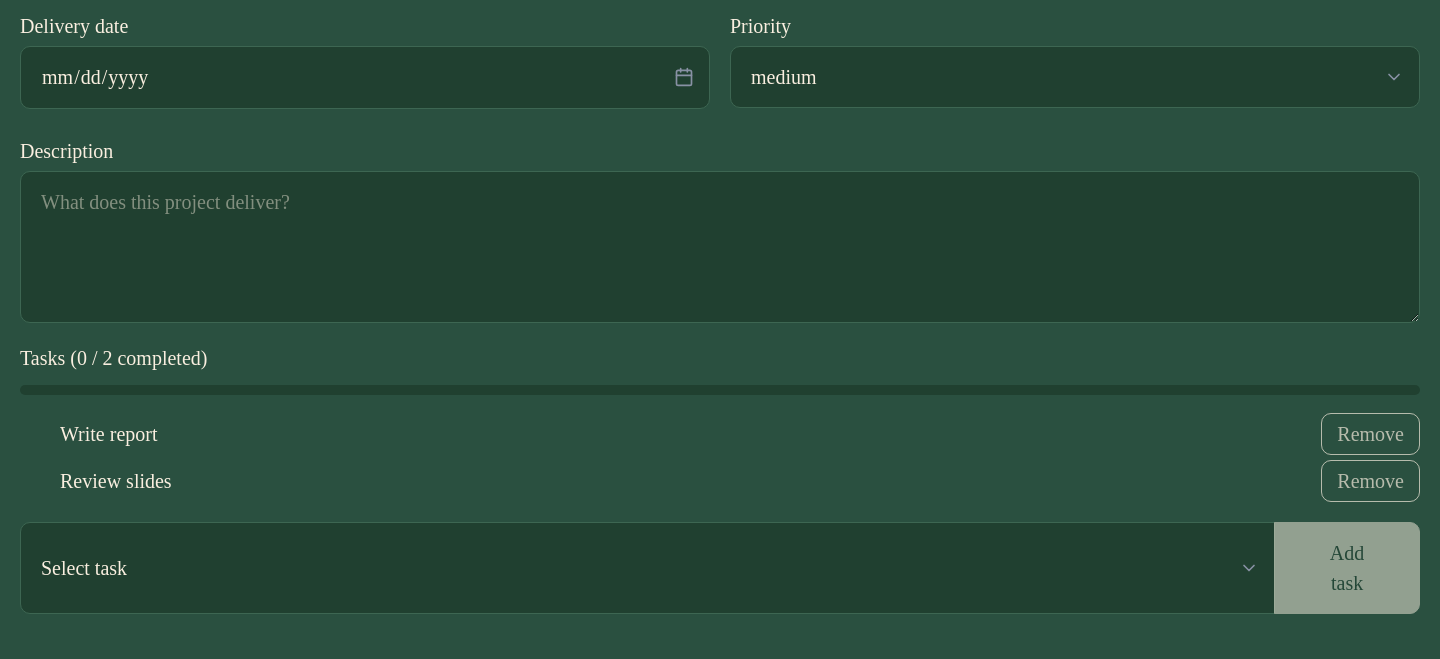
Test: ProjectForm checks its tasks' due dates against the delivery date › blocks adding a task due after the delivery date, but only once both dates are set
Select "Book room" in the 2nd dropdown: (648, 568) 20,522 -> 1275,614
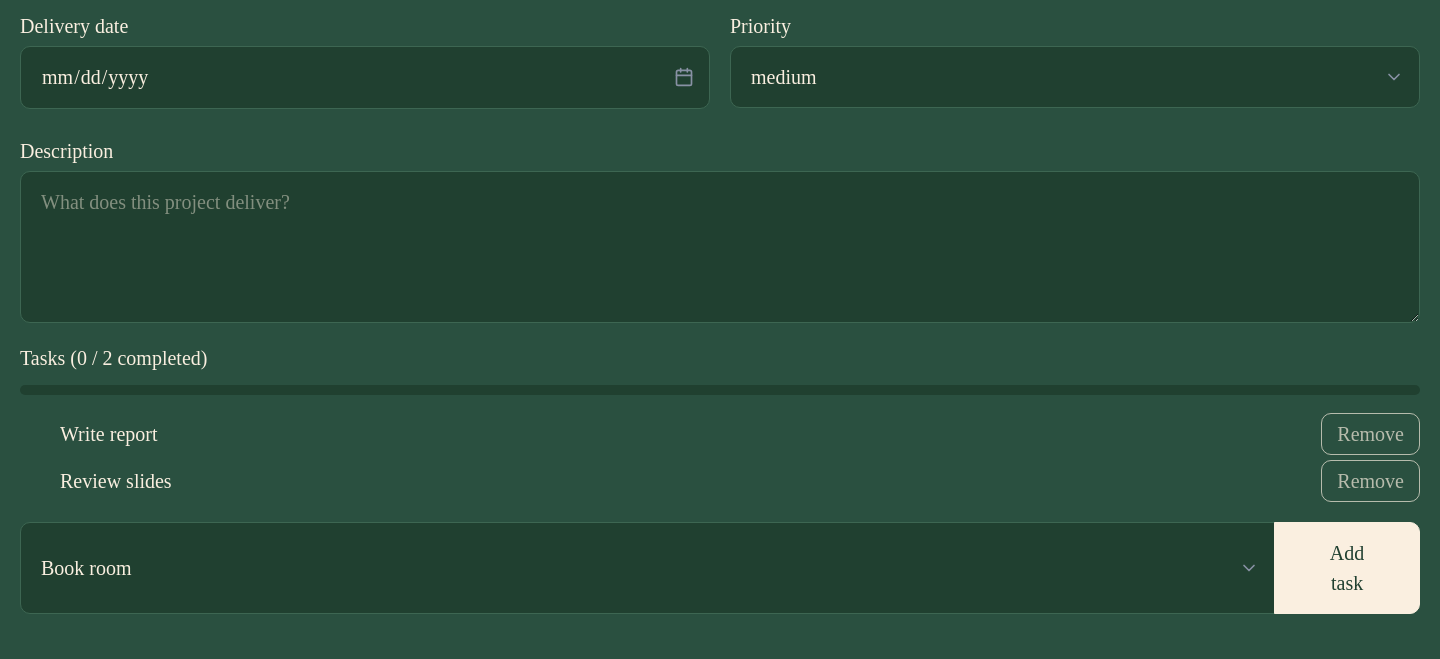
In the date field labelled "Delivery date": (365, 77) 20,46 -> 710,108, type "2027-01-18"
(page scrolled)
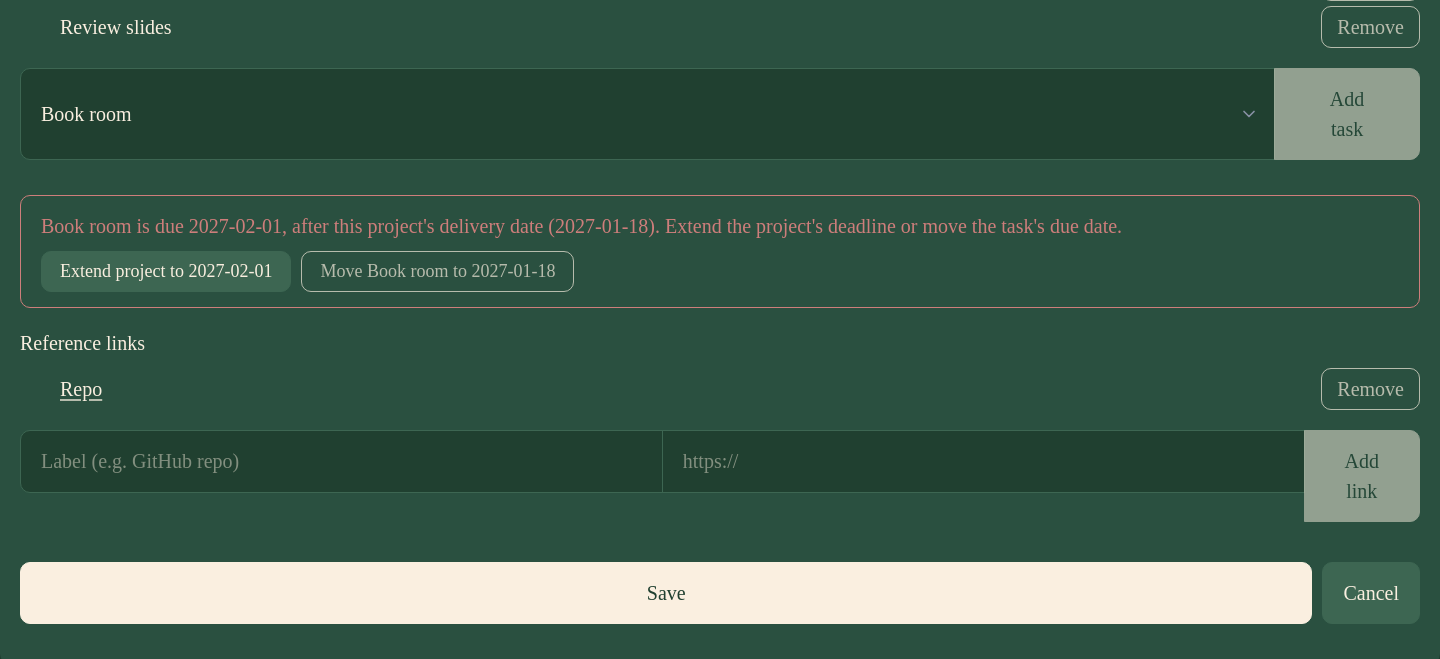
Result: the message with class "date-error" shows "Book room is due 2027-02-01, after this project's delivery date (2027-01-18)." at 41,215 -> 1122,237
Result: the button "Add task" is disabled at 1274,68 -> 1420,160
Click the button "Extend project to 2027-02-01": click(166, 272) 41,251 -> 292,292
(page scrolled)
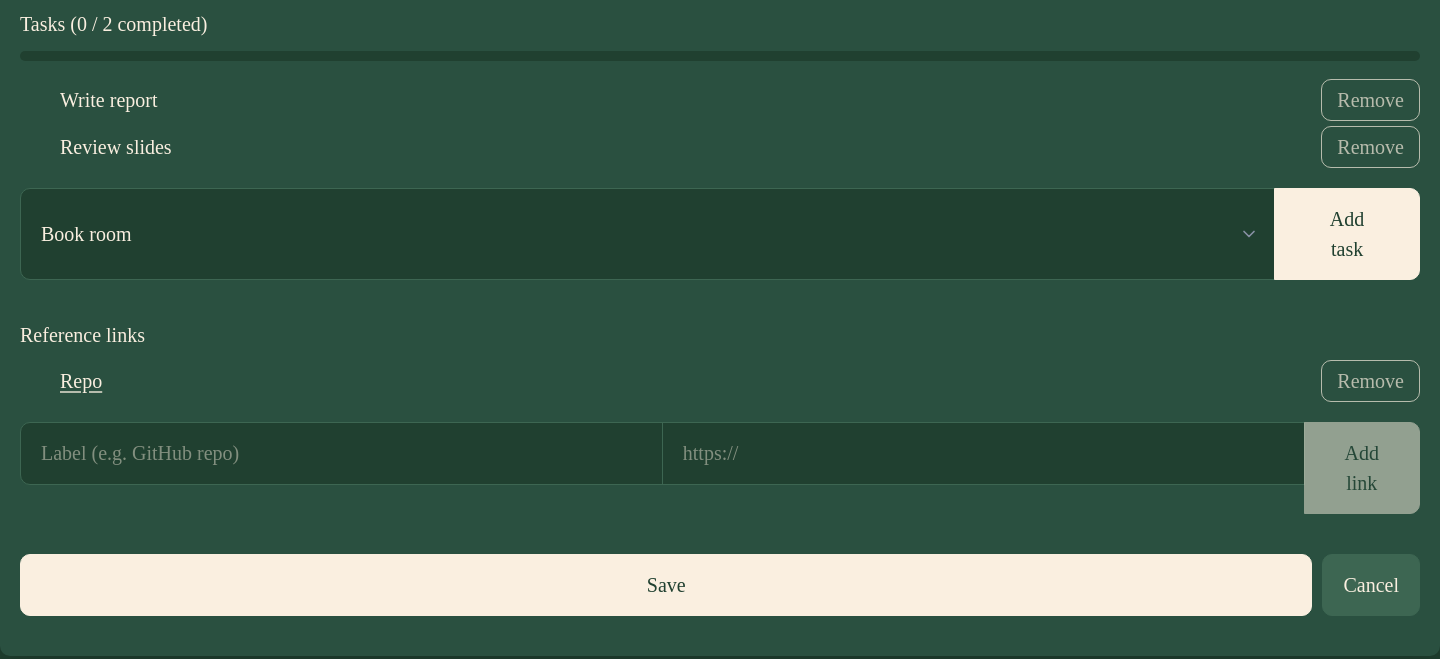
Result: the button "Add task" is enabled at 1274,188 -> 1420,280
